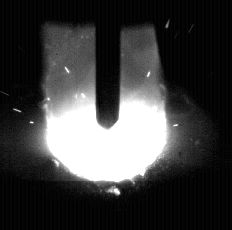arame: (95, 0, 121, 129)
poca: (44, 0, 171, 230)
